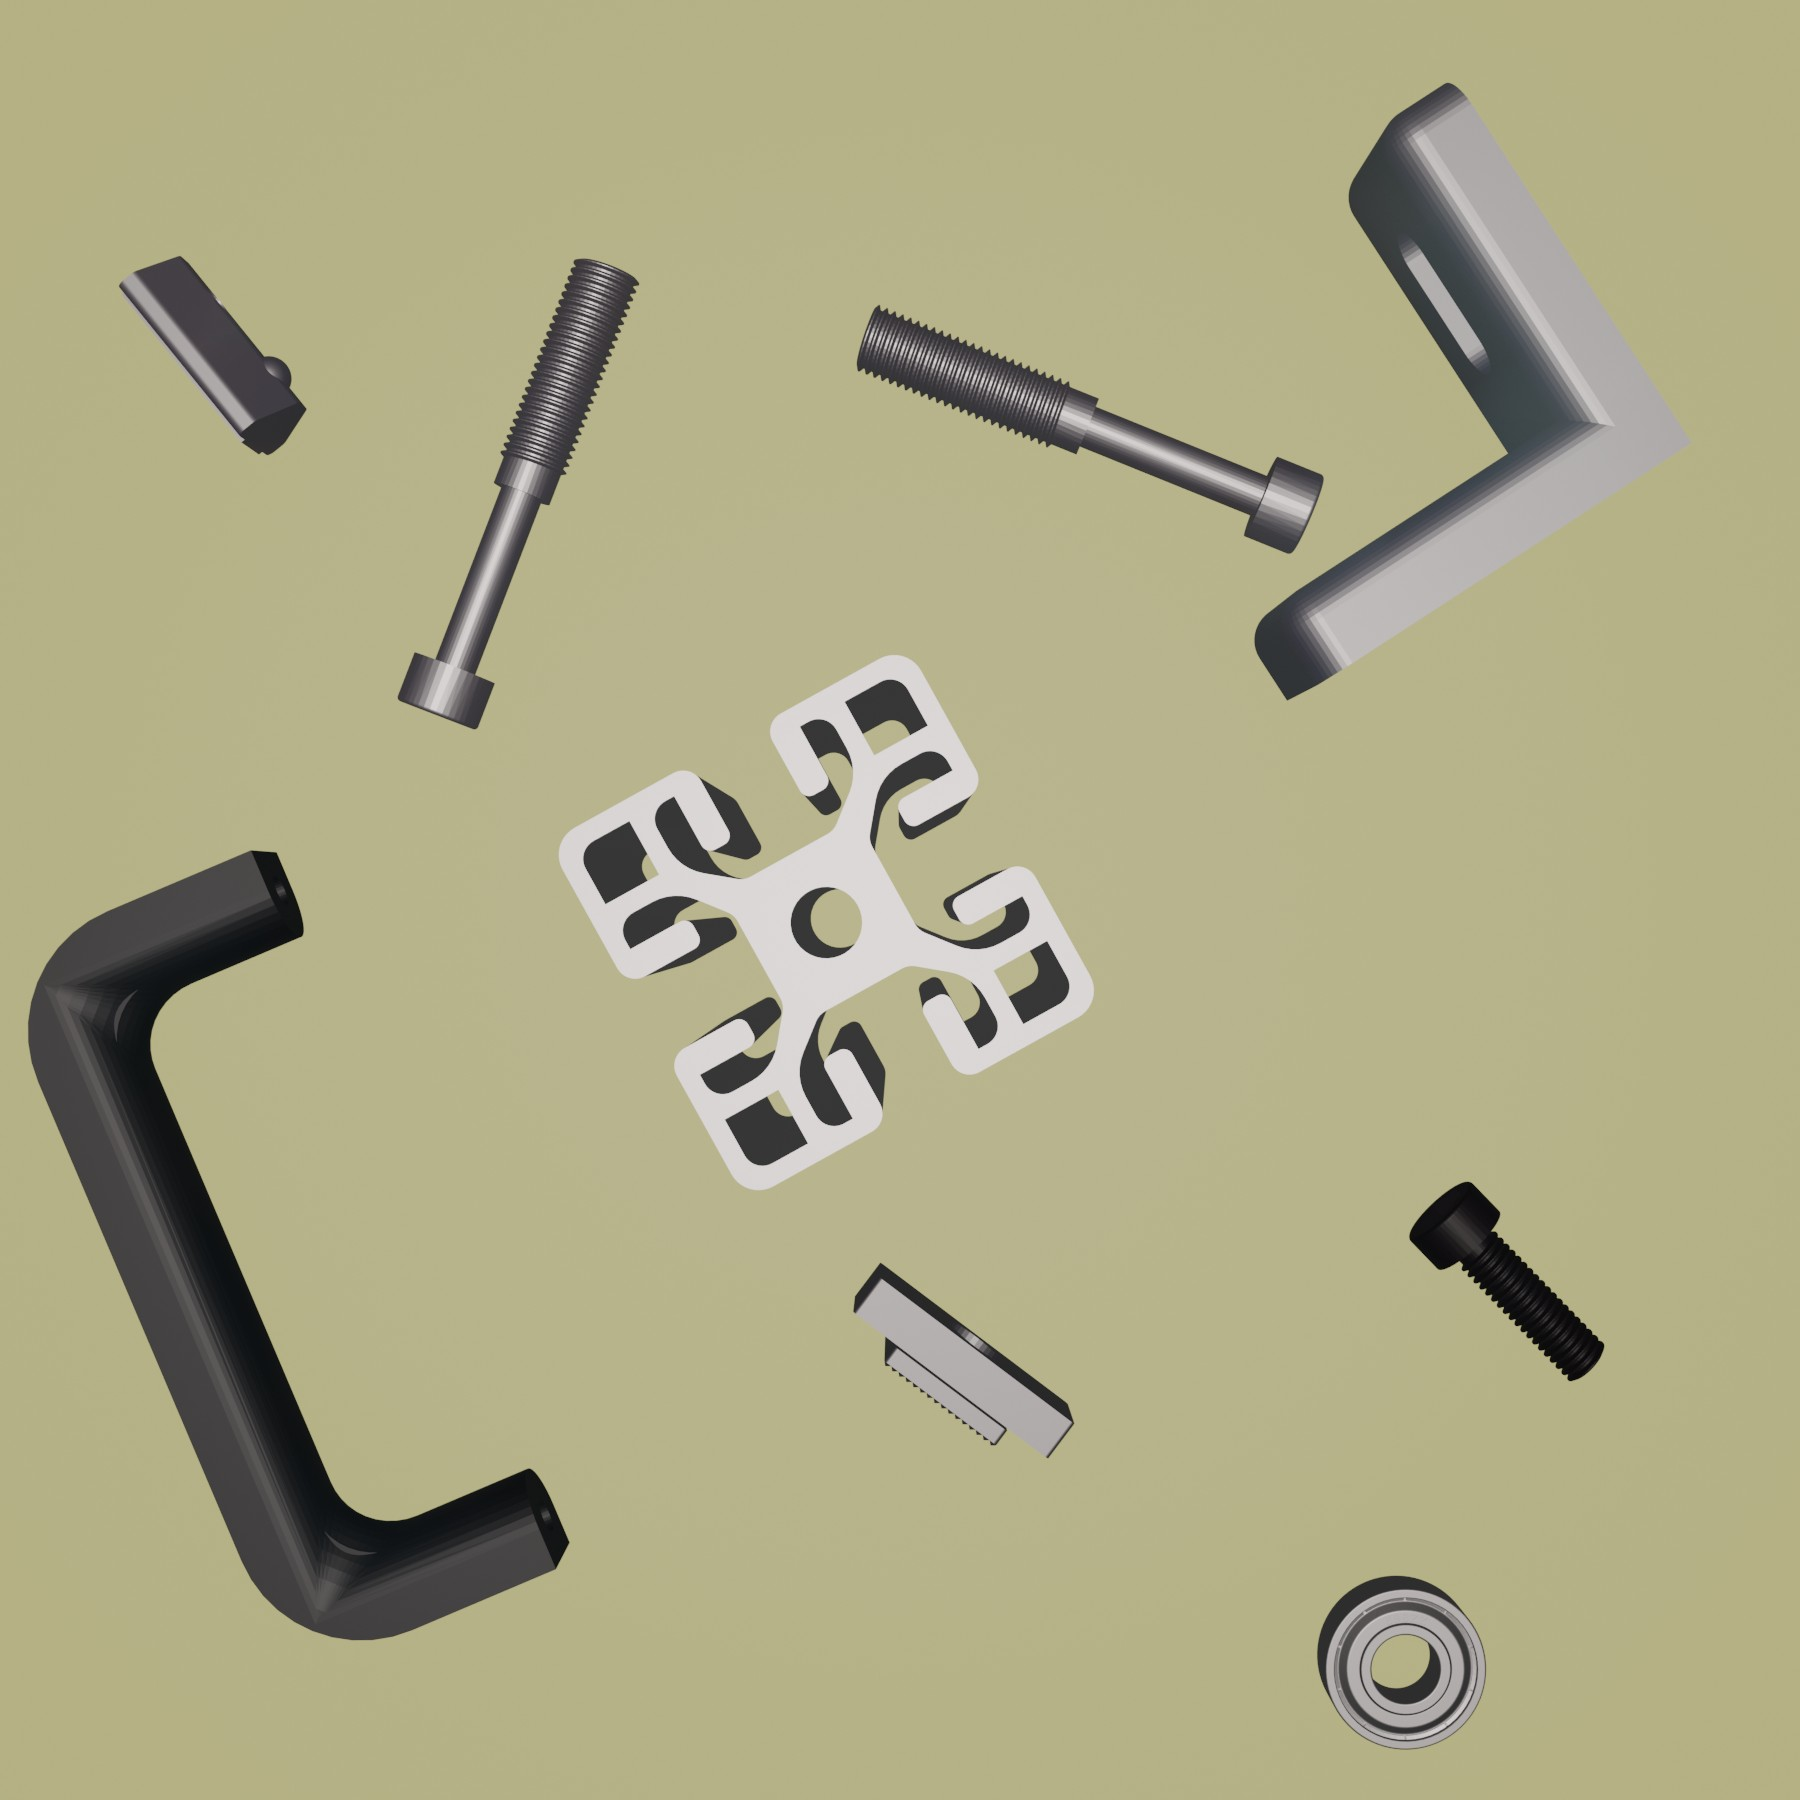Aluminium Extension: (554, 651, 1099, 1197)
Ball Bearing: (1312, 1569, 1490, 1754)
Multiwinkel: (1253, 77, 1696, 702)
Pull Handle: (25, 847, 570, 1643)
Shoulder Socket Head Cap Screw: (851, 302, 1325, 559), (394, 254, 640, 732)
Socket Head Cap Screw: (1406, 1179, 1605, 1385)
T Nut Square: (851, 1258, 1076, 1462)
T Spring Nut: (115, 249, 308, 458)
